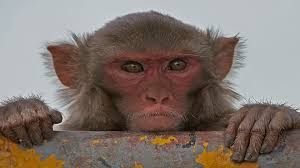monkey: (24, 6, 290, 151)
